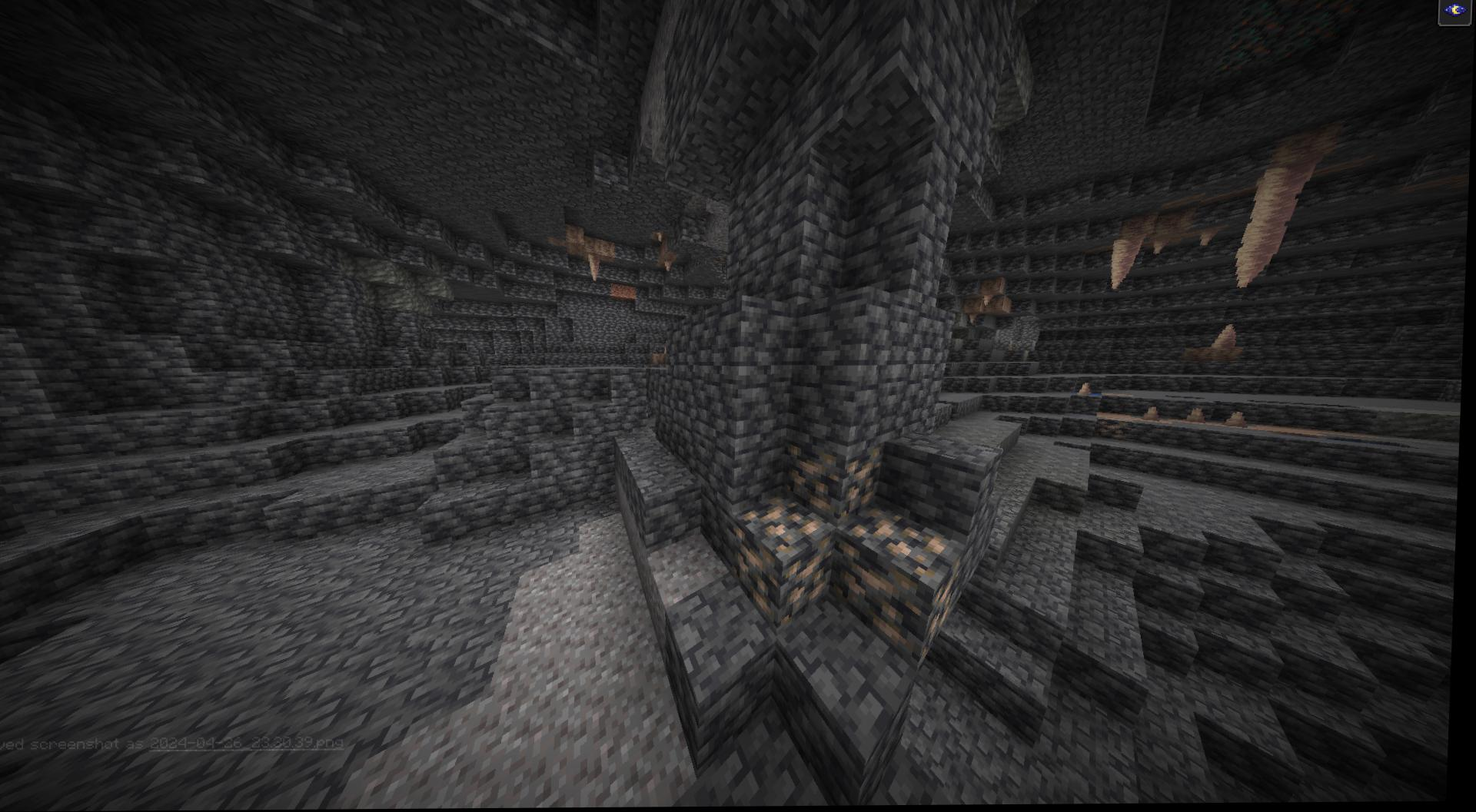iron ore: (837, 510, 962, 646), (733, 501, 840, 617), (793, 449, 881, 517), (1098, 418, 1130, 442)
